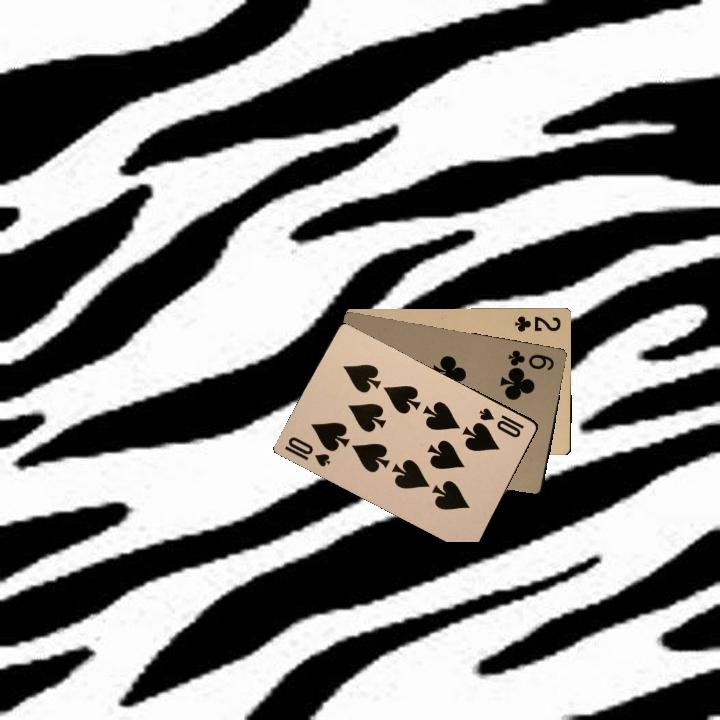10s: (280, 432, 333, 469), (475, 403, 526, 440)
2c: (511, 312, 563, 334)
6c: (504, 346, 556, 373)
